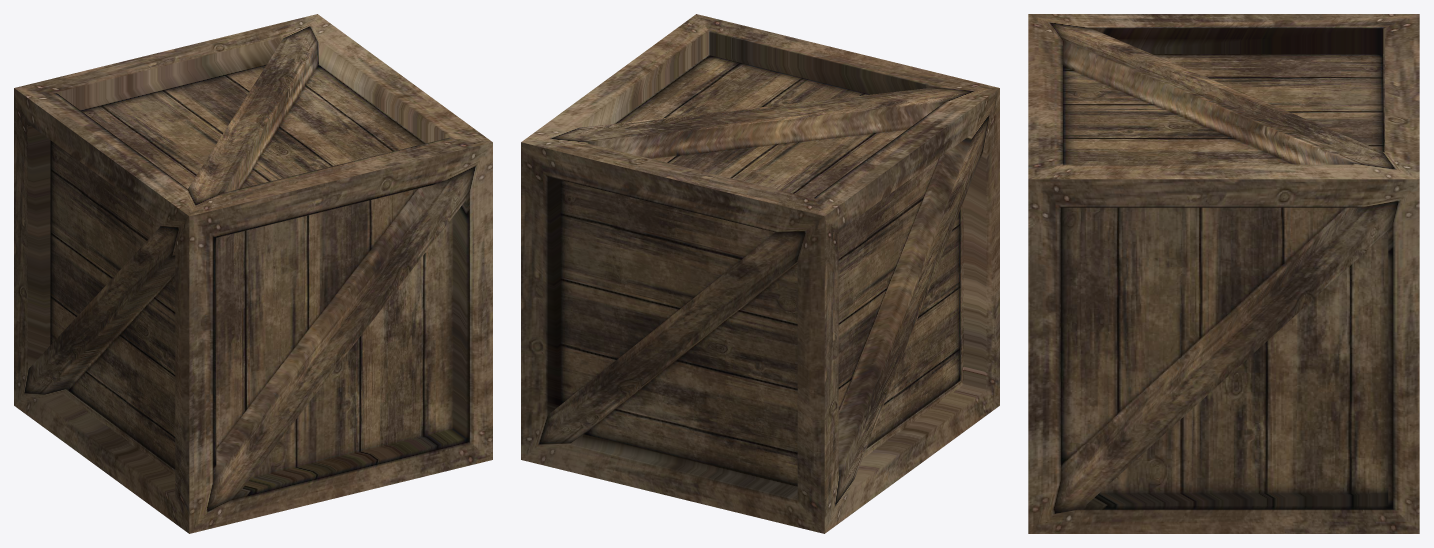
Rendered from WoodBox.fbx.
The picture shows the model from 3 angles, left to right: view 1: azimuth 30°, elevation 25°; view 2: azimuth 150°, elevation 25°; view 3: azimuth 270°, elevation 25°; orthographic projection. The views are drawn at different scales.
Parts seen in each view (by area): view 1: woodBox; view 2: woodBox; view 3: woodBox.
Part boxes in pixels (x1,y1,x2,y2): woodBox: (14,14,492,533); woodBox: (521,14,999,533); woodBox: (1028,14,1419,533).
Size of the model in its own units: 11 by 11 by 11.
1 material, 1 textured.
